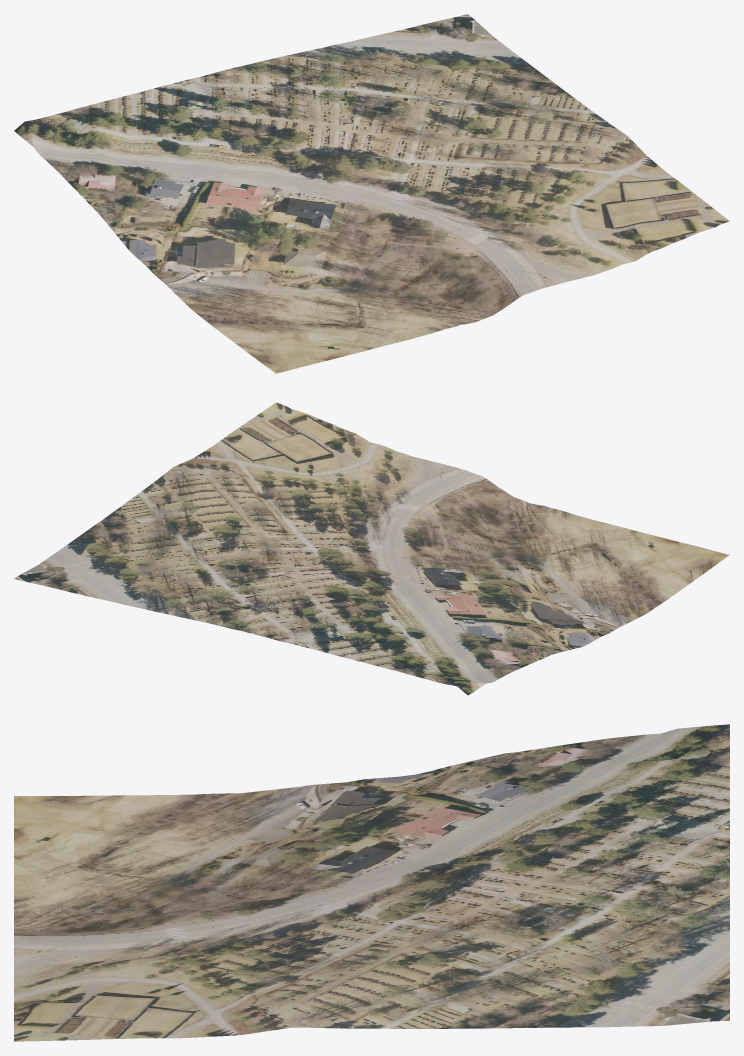
File: CM_Terrain_24491892_6819180.fbx
3 renders of one model, top to bottom at view 1: azimuth 30°, elevation 25°; view 2: azimuth 150°, elevation 25°; view 3: azimuth 270°, elevation 25°, orthographic. The views are drawn at different scales.
Visible parts, largest first — view 1: CM_Terrain_24491892_6819180_LOD0; view 2: CM_Terrain_24491892_6819180_LOD0; view 3: CM_Terrain_24491892_6819180_LOD0.
Part boxes in pixels (x1,y1,x2,y2): CM_Terrain_24491892_6819180_LOD0: (14, 14, 729, 373); CM_Terrain_24491892_6819180_LOD0: (14, 402, 729, 695); CM_Terrain_24491892_6819180_LOD0: (14, 724, 729, 1041).
Size of what is drawn, in the model's own units: 205 by 26.05 by 205.
